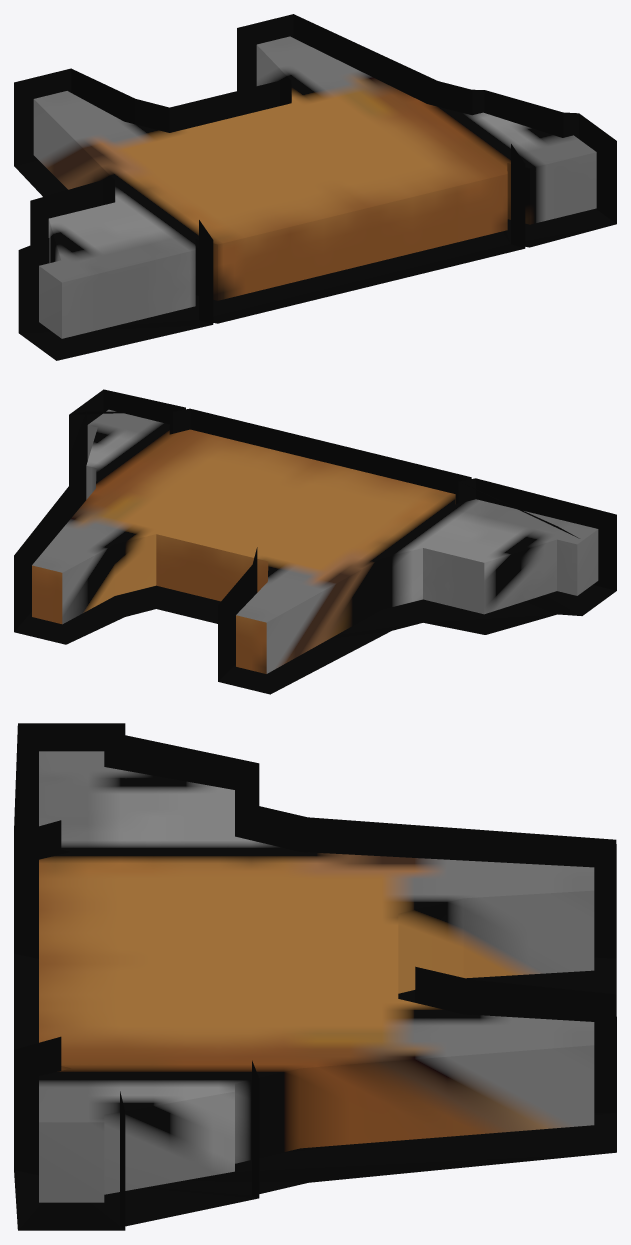
File: Building_TrapIED_Incendiary_Things_Building_Security_IEDIncendiary.glb
3 views of the same model, one above another, from view 1: azimuth 30°, elevation 25°; view 2: azimuth 150°, elevation 25°; view 3: azimuth 270°, elevation 25° (orthographic). The views are drawn at different scales.
Parts seen in each view (by area): view 1: Body, Outline; view 2: Body, Outline; view 3: Body, Outline.
Part boxes in pixels (box(x1,y1,x2,y2)): Body: box(33, 36, 596, 338); Outline: box(14, 14, 616, 360); Body: box(32, 409, 598, 673); Outline: box(14, 389, 616, 694); Body: box(39, 751, 594, 1202); Outline: box(14, 723, 616, 1230).
Bounding box in the file's own units: 0.7861 × 0.1354 × 0.5152.
2 materials, 1 textured.
